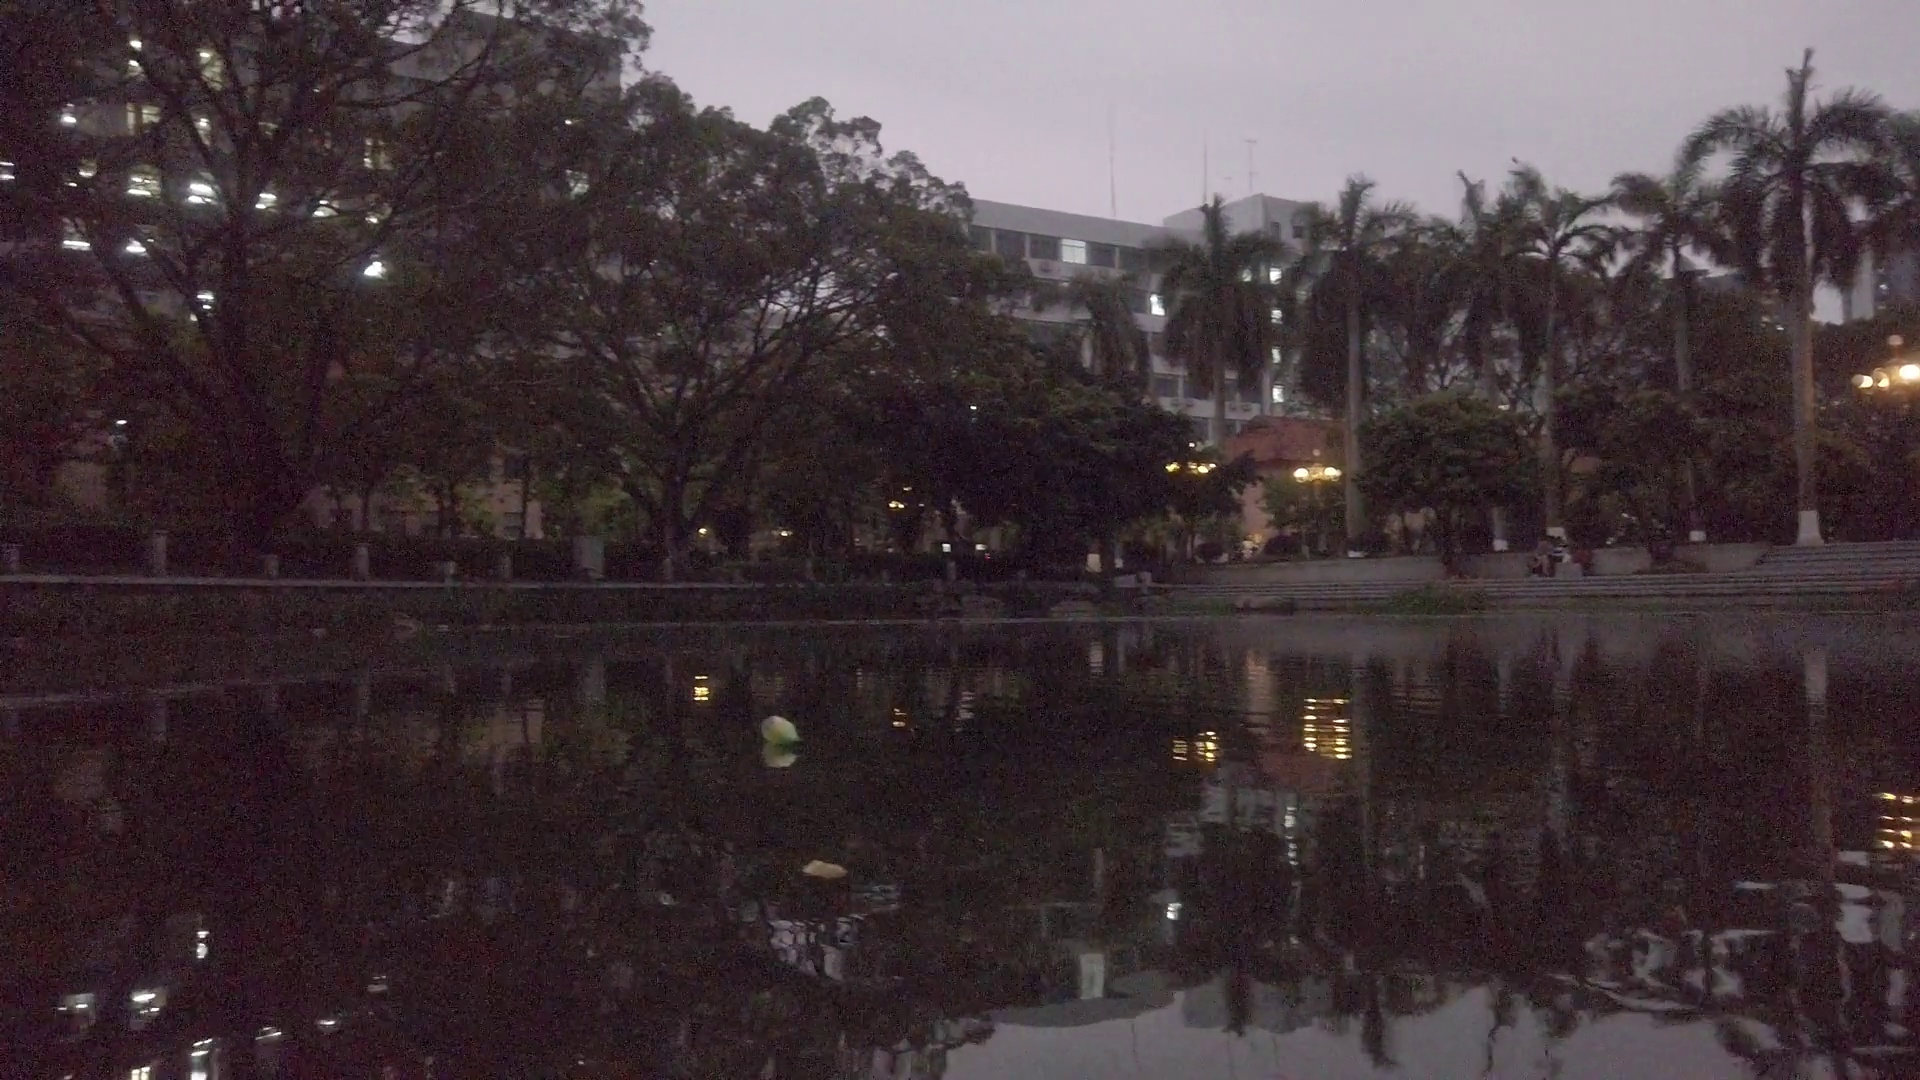bottle: (760, 715, 812, 757)
